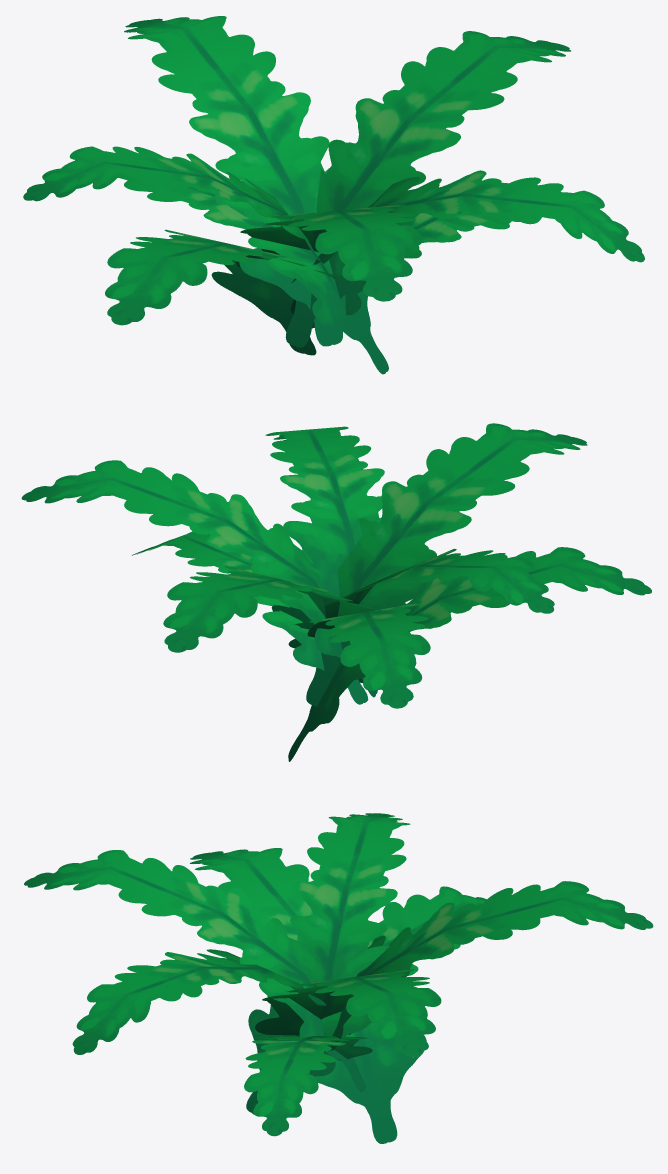
The model's file is SM_Fougere2.fbx.
The picture shows the model from 3 angles, top to bottom: view 1: azimuth 30°, elevation 25°; view 2: azimuth 150°, elevation 25°; view 3: azimuth 270°, elevation 25°; orthographic projection. The views are drawn at different scales.
Visible parts, largest first — view 1: fougere3; view 2: fougere3; view 3: fougere3.
Part boxes in pixels (x1,y1,x2,y2): fougere3: (23, 16, 644, 374); fougere3: (21, 423, 651, 761); fougere3: (24, 813, 653, 1143).
Bounding box in the file's own units: 156 × 67.09 × 161.
Materials: 1 (1 with a texture image).
